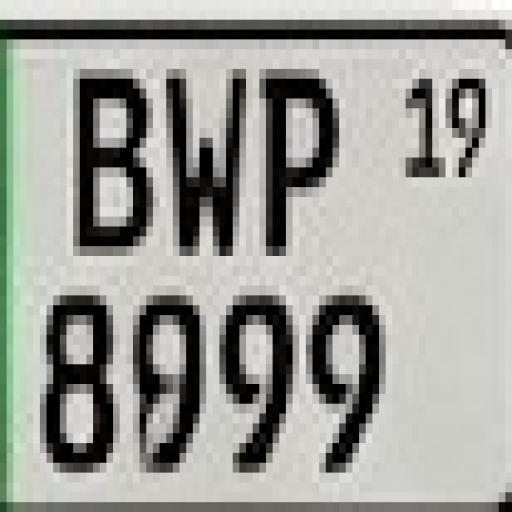8: (38, 273, 114, 470)
9: (304, 288, 382, 479), (128, 286, 206, 476), (216, 297, 300, 467)
B: (74, 60, 156, 269)
P: (262, 68, 340, 259)
W: (164, 60, 254, 262)
